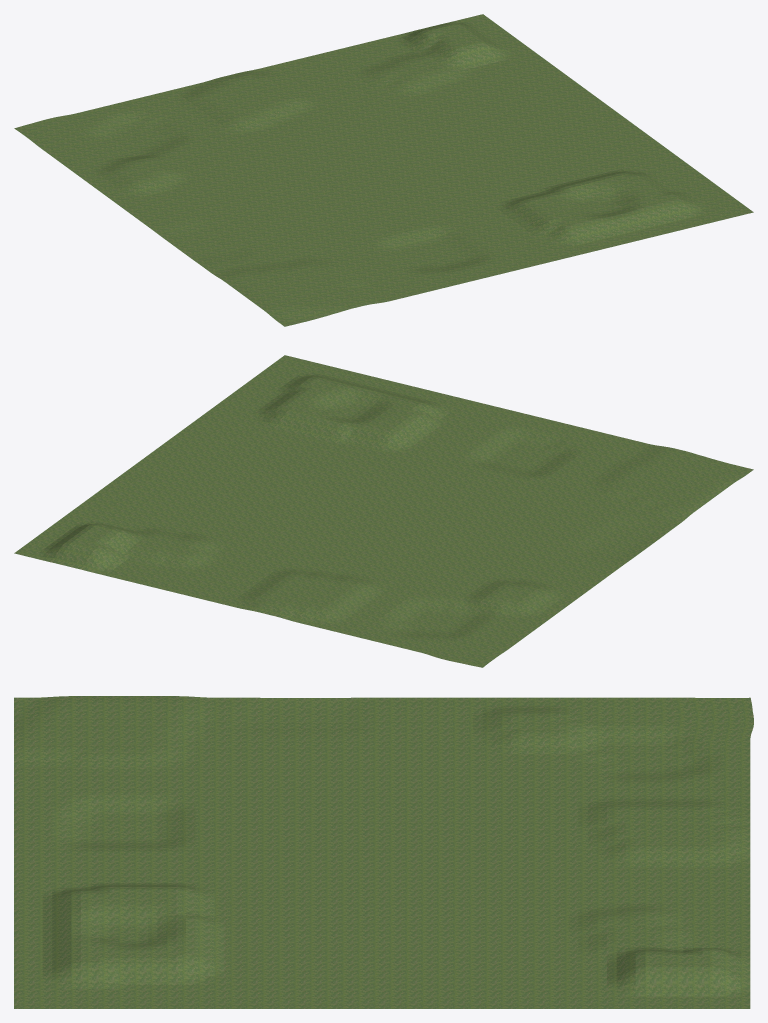
File: TrackGround.fbx
The picture shows the model from 3 angles, top to bottom: view 1: azimuth 30°, elevation 25°; view 2: azimuth 150°, elevation 25°; view 3: azimuth 270°, elevation 25°; orthographic projection. The views are drawn at different scales.
Visible parts, largest first — view 1: ground; view 2: ground; view 3: ground.
Part boxes in pixels (x1,y1,x2,y2): ground: (14, 14, 753, 326); ground: (14, 355, 753, 667); ground: (14, 696, 753, 1008).
Size of the model in its own units: 22625 by 624 by 22734.
